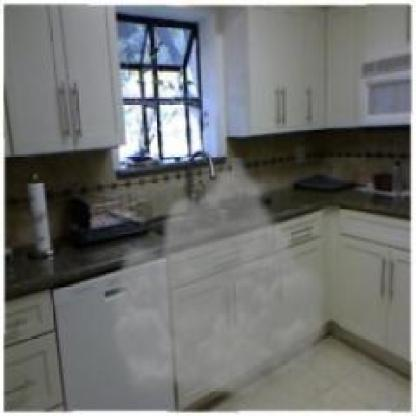Smoke: (106, 160, 335, 402)
